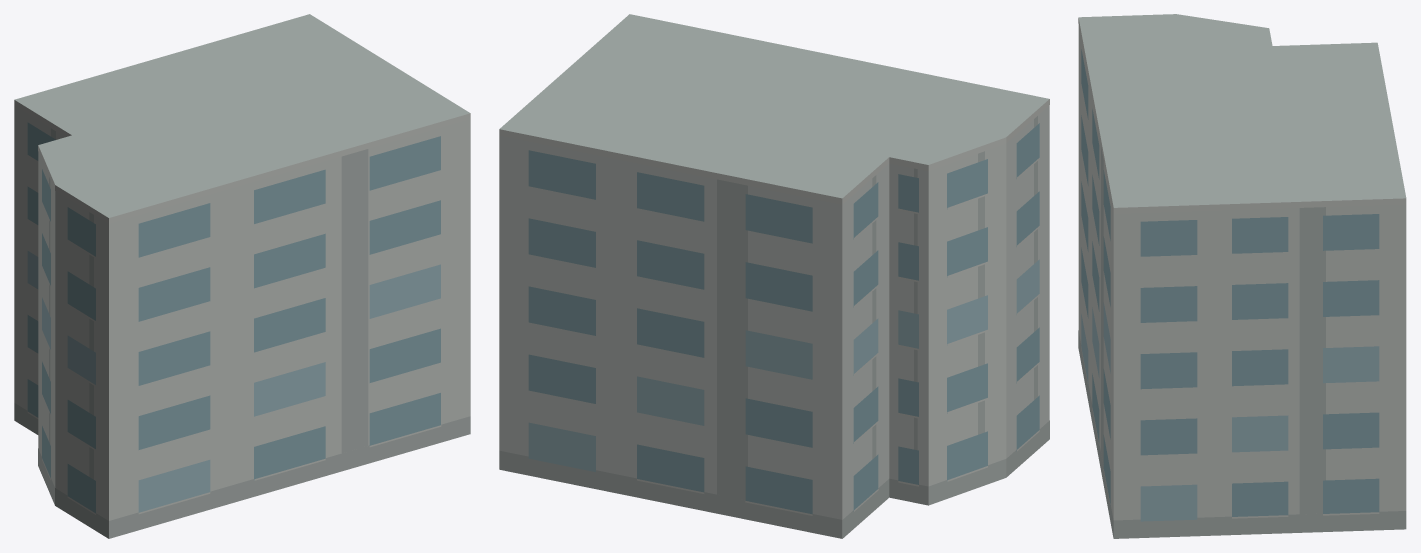
Rendered from survey-upis-32976902.glb.
3 renders of one model, left to right at view 1: azimuth 30°, elevation 25°; view 2: azimuth 150°, elevation 25°; view 3: azimuth 270°, elevation 25°, orthographic. The views are drawn at different scales.
Visible parts, largest first — view 1: survey-upis-32976902.tmp; view 2: survey-upis-32976902.tmp; view 3: survey-upis-32976902.tmp.
Boxes of the visible parts, x1,y1,x2,y2 form: survey-upis-32976902.tmp: (14, 14, 470, 538); survey-upis-32976902.tmp: (499, 14, 1049, 538); survey-upis-32976902.tmp: (1078, 14, 1406, 538).
Size of the model in its own units: 16.6 by 13.2 by 11.86.
